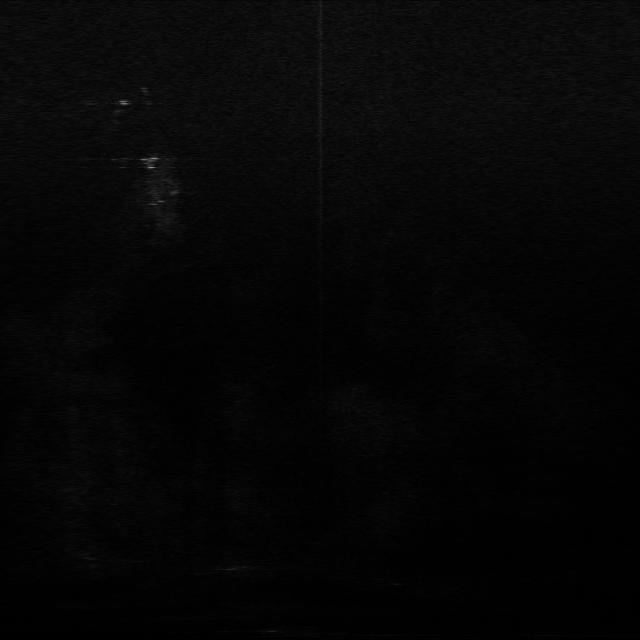rov: (138, 154, 166, 172)
